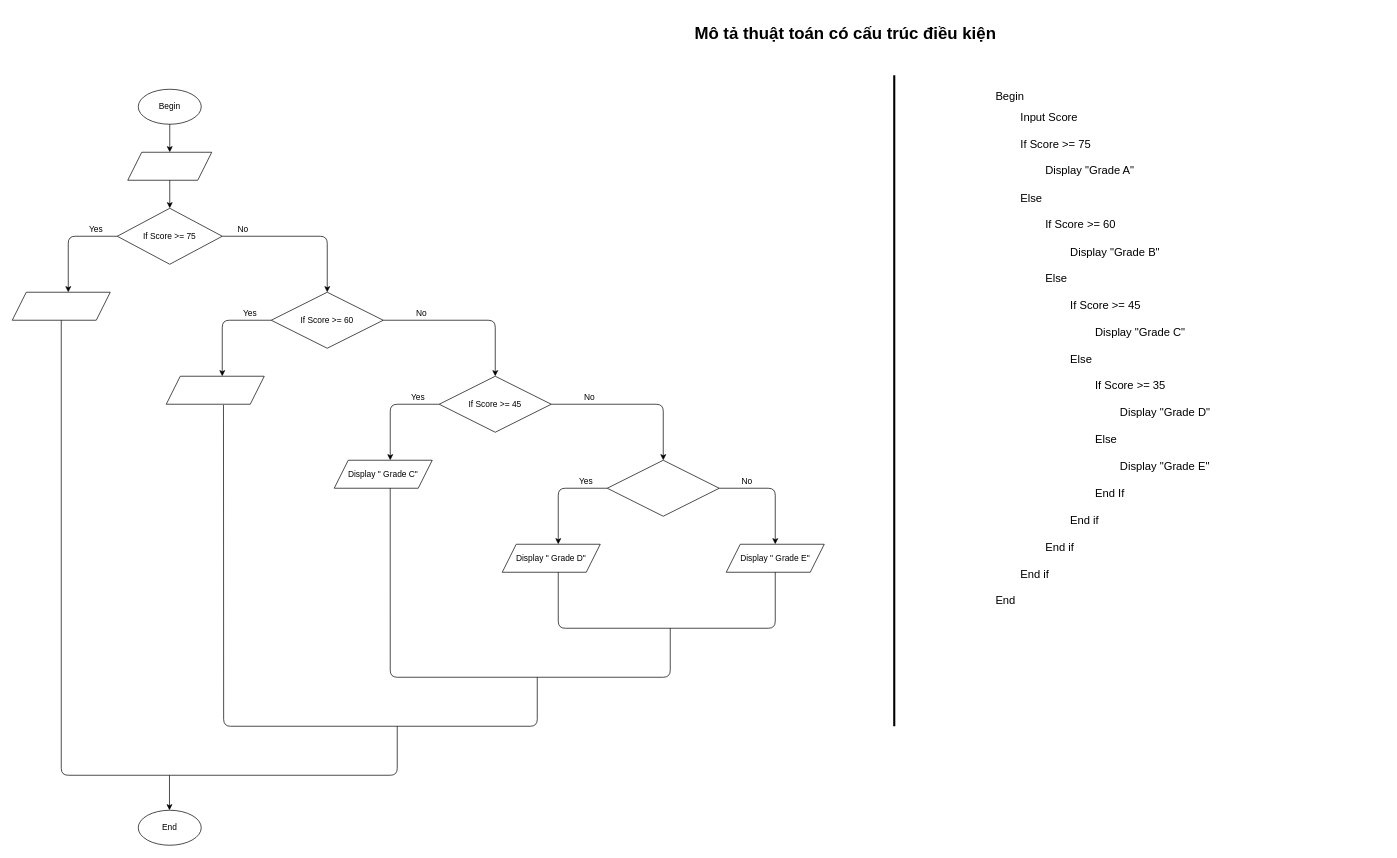
This 1397x858 diagram has some shape labels left out. The shapes that lost their labels are listed below. From the top down, each one's centre as x and y in pixels, then its label:
(x=169, y=166): Input Score
(x=61, y=306): Display " Grade A"
(x=215, y=390): Display " Grade B"
(x=663, y=488): If Score >= 35
